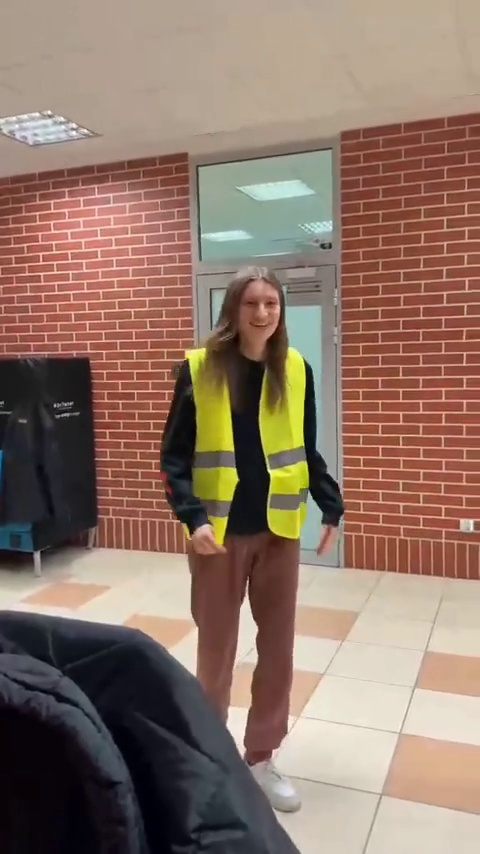vest: (162, 277, 354, 828)
